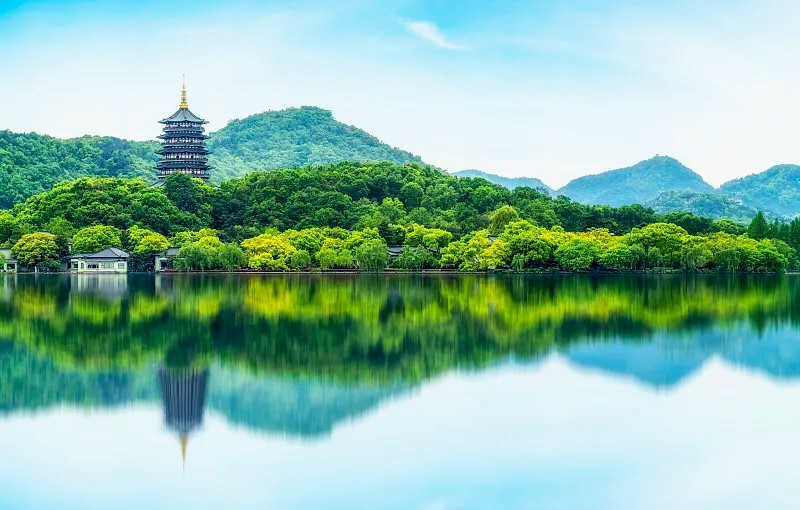Leifeng: (155, 72, 214, 188)
